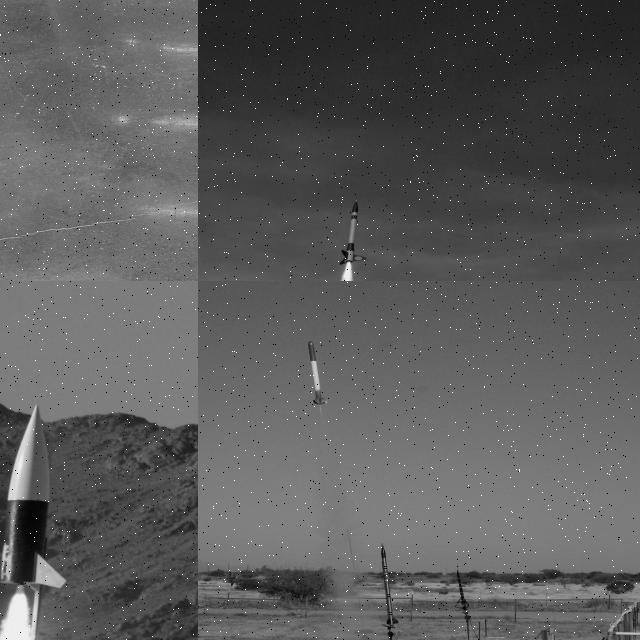Rocket: (0, 402, 68, 592), (338, 199, 368, 265), (306, 339, 330, 406), (380, 542, 399, 626), (454, 568, 470, 612)
